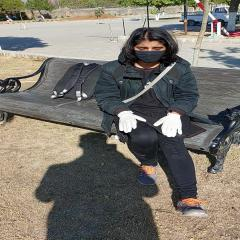gloved: (154, 114, 184, 138), (117, 111, 146, 132)
